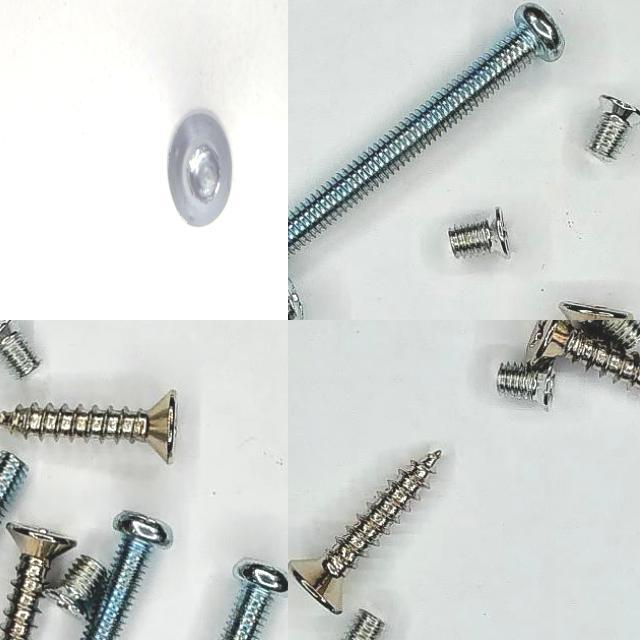Screw: (288, 4, 564, 257), (288, 451, 441, 615), (0, 390, 176, 463), (82, 511, 172, 640), (0, 523, 75, 640), (525, 320, 640, 386), (168, 112, 232, 226), (222, 560, 288, 640), (43, 555, 106, 618), (588, 94, 640, 159), (448, 207, 510, 259), (496, 361, 555, 411), (0, 320, 40, 377), (577, 320, 640, 352), (341, 610, 384, 640)
